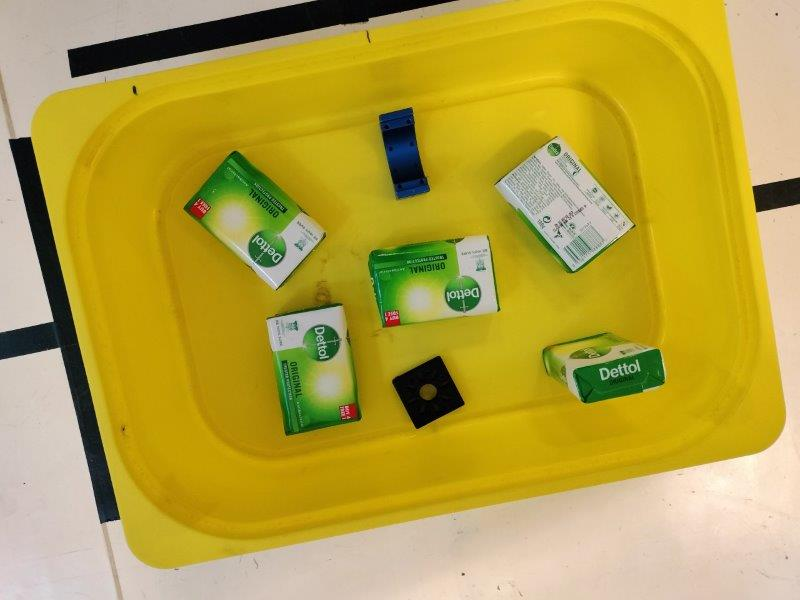Dettol: (183, 150, 326, 290), (492, 135, 635, 274), (264, 304, 364, 437), (369, 234, 501, 327), (542, 332, 667, 404)
